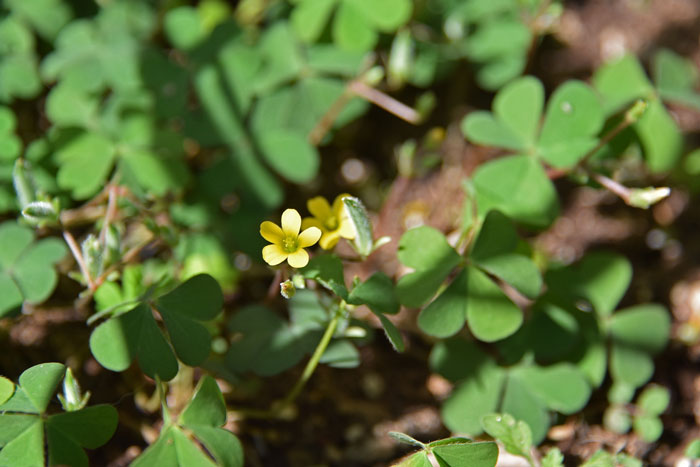oxalis: (135, 184, 671, 452), (423, 44, 627, 252), (11, 362, 118, 463)
